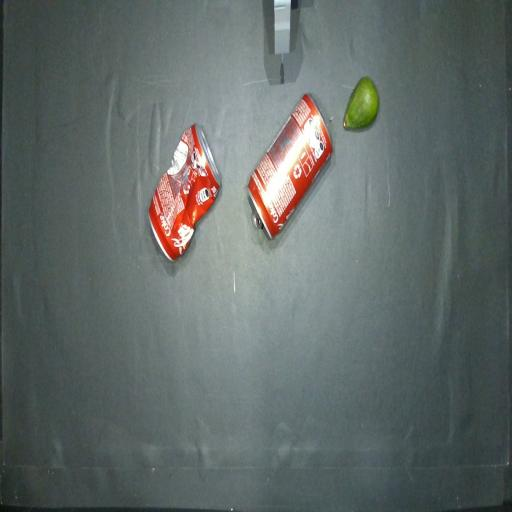higo: (343, 77, 378, 129)
lata: (247, 94, 333, 238)
lata_defectuoso: (148, 125, 221, 261)
